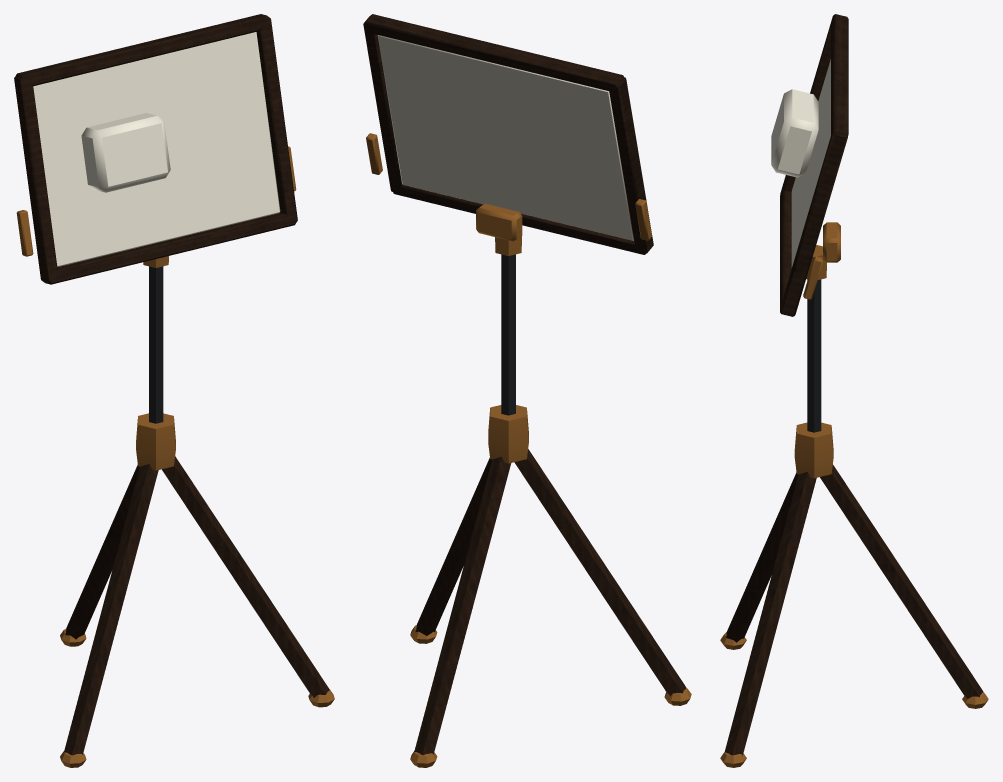
File: maker-progress-stand.lod1.glb
The picture shows the model from 3 angles, left to right: view 1: azimuth 30°, elevation 25°; view 2: azimuth 150°, elevation 25°; view 3: azimuth 270°, elevation 25°; orthographic projection. The views are drawn at different scales.
Visible parts, largest first — view 1: maker_progress_stand_Ceramic • warm ivory, maker_progress_stand_Timber • oiled walnut, maker_progress_stand_Trim • places palette; view 2: maker_progress_stand_Ceramic • warm ivory, maker_progress_stand_Timber • oiled walnut, maker_progress_stand_Trim • places palette; view 3: maker_progress_stand_Timber • oiled walnut, maker_progress_stand_Trim • places palette, maker_progress_stand_Ceramic • warm ivory.
Part boxes in pixels (<box>): maker_progress_stand_Ceramic • warm ivory: <box>33,32,280,267</box>; maker_progress_stand_Timber • oiled walnut: <box>14,14,329,755</box>; maker_progress_stand_Trim • places palette: <box>16,146,334,767</box>; maker_progress_stand_Ceramic • warm ivory: <box>377,35,633,240</box>; maker_progress_stand_Timber • oiled walnut: <box>363,14,686,755</box>; maker_progress_stand_Trim • places palette: <box>366,133,691,767</box>; maker_progress_stand_Timber • oiled walnut: <box>724,14,983,755</box>; maker_progress_stand_Trim • places palette: <box>720,222,988,767</box>; maker_progress_stand_Ceramic • warm ivory: <box>771,59,830,267</box>.
Bounding box in the file's own units: 0.6835 × 1.57 × 0.6.
3 materials, 2 textured.
